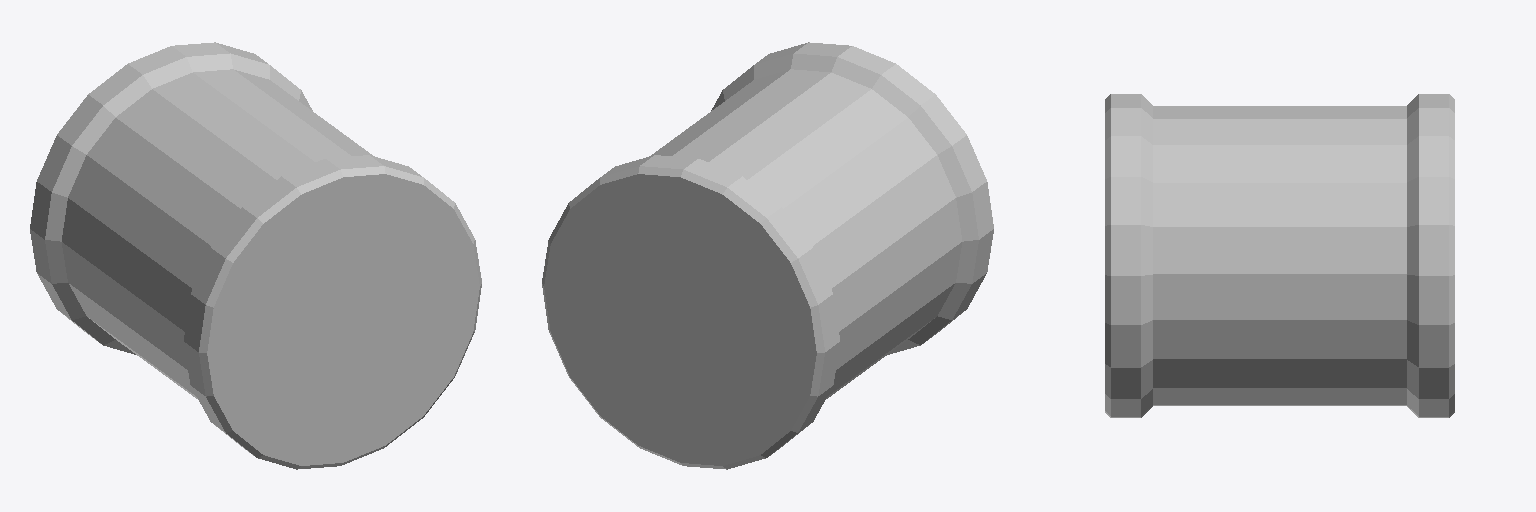
The model's file is Pipe.obj.
3 renders of one model, left to right at view 1: azimuth 30°, elevation 25°; view 2: azimuth 150°, elevation 25°; view 3: azimuth 270°, elevation 25°, orthographic.
Visible parts, largest first — view 1: Pipe; view 2: Pipe; view 3: Pipe.
Part boxes in pixels (left/top/right/bottom): Pipe: left=30, top=42, right=481, bottom=469; Pipe: left=542, top=42, right=993, bottom=469; Pipe: left=1105, top=94, right=1454, bottom=417.
Bounding box in the file's own units: 0.054 × 0.054 × 0.0578.